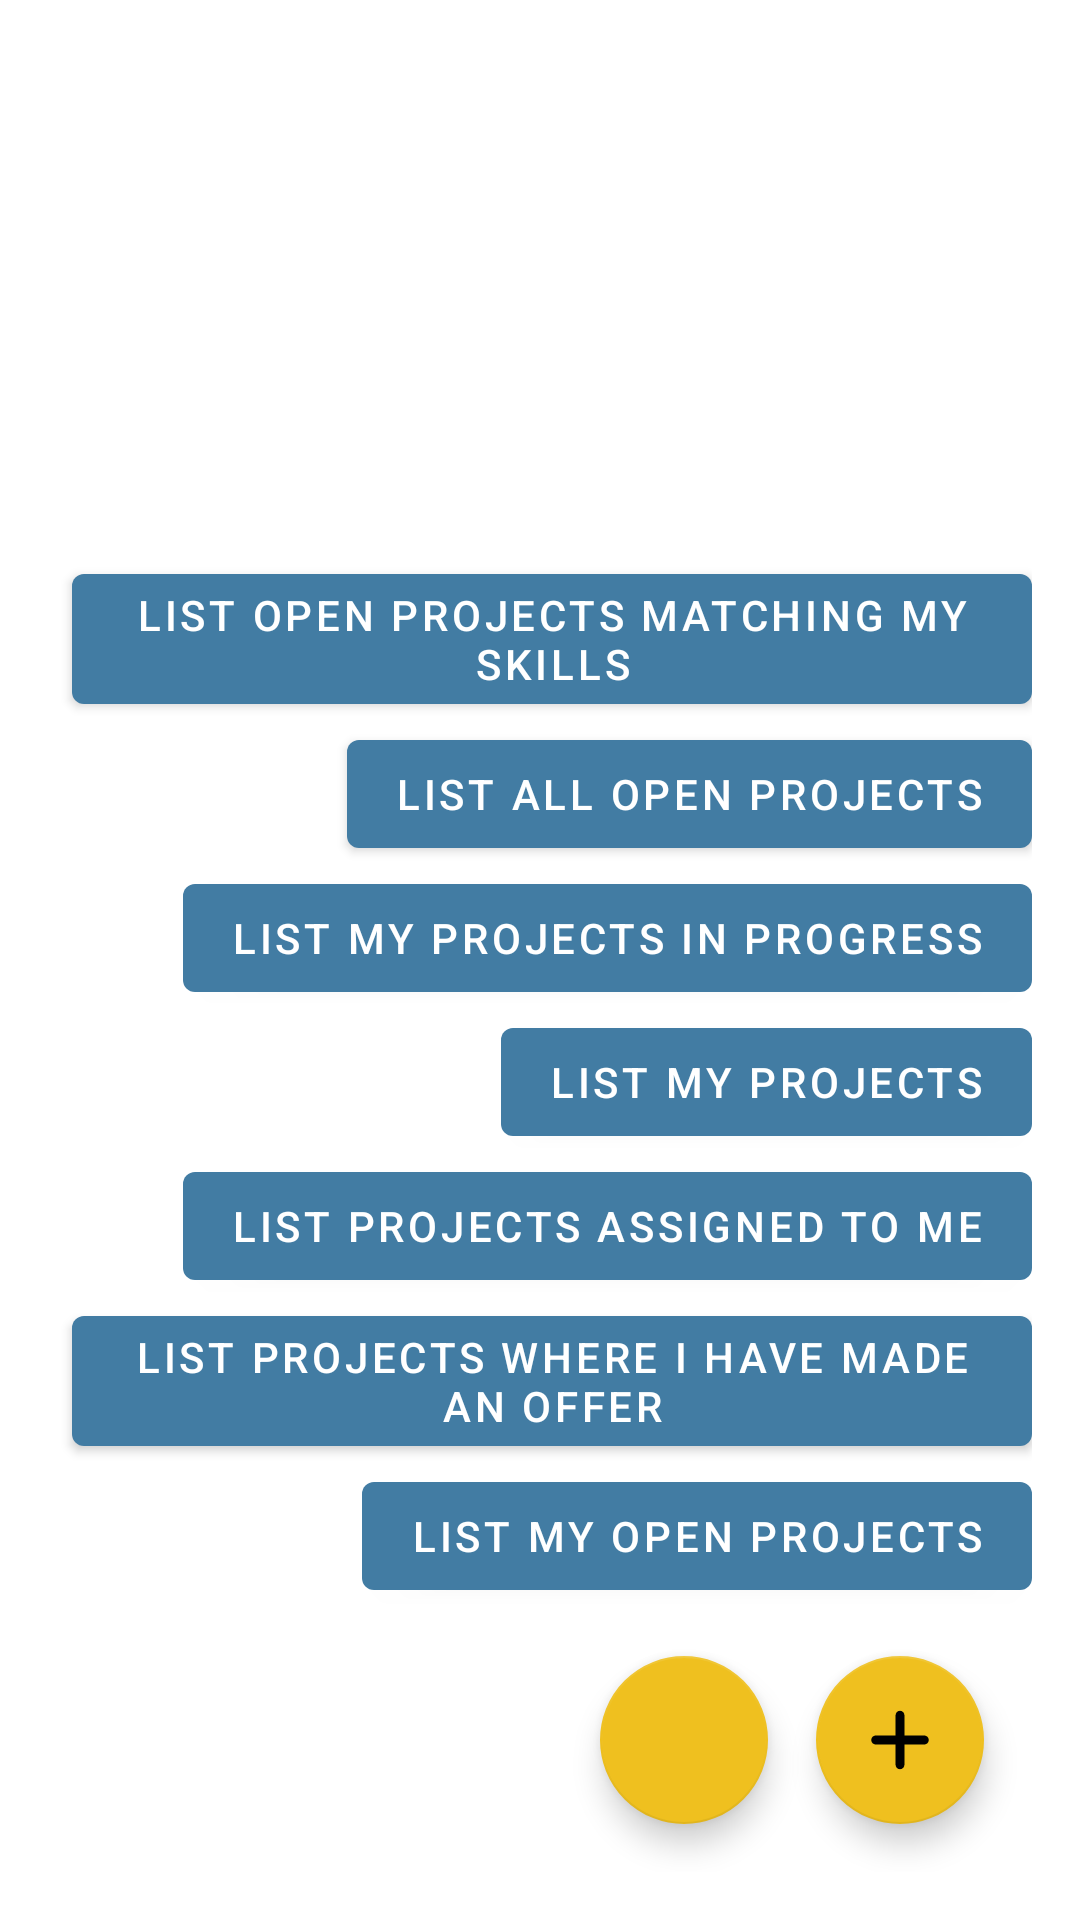

Locate icon controls on the screen. Image size 1080 × 1920, boxes as (x1, y1, x2, y2).
Add project: (816, 1656, 984, 1824)
